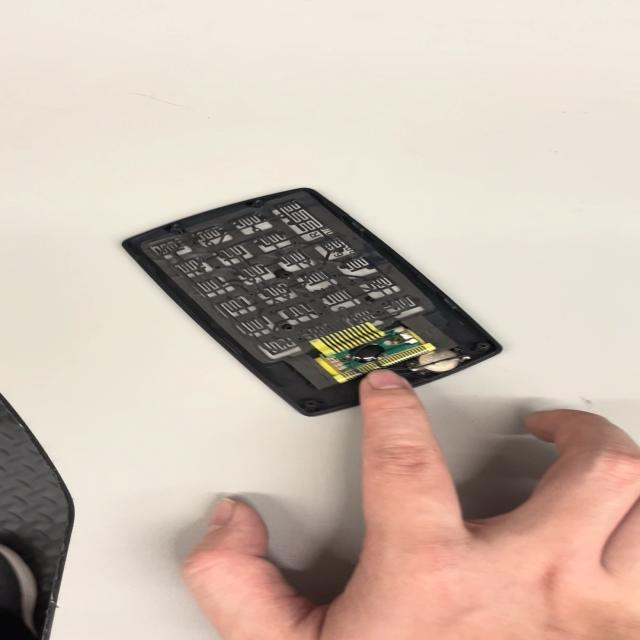front_panel: (120, 183, 508, 415)
